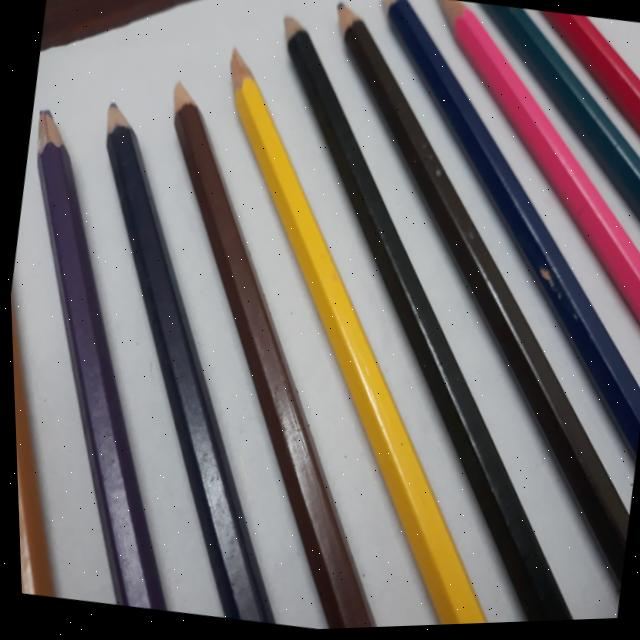pencil: (265, 11, 582, 626), (323, 0, 625, 604), (212, 40, 495, 628), (155, 74, 383, 631), (86, 91, 280, 626), (30, 89, 170, 613), (534, 14, 640, 157)
